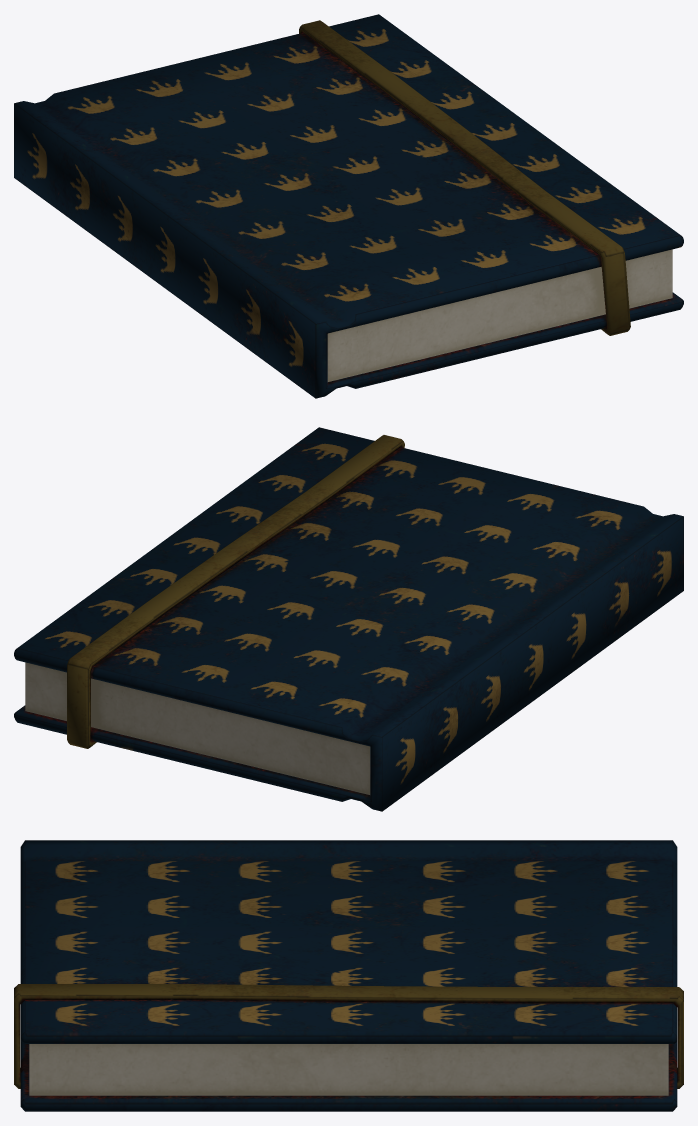
The model's file is book.obj.
The picture shows the model from 3 angles, top to bottom: view 1: azimuth 30°, elevation 25°; view 2: azimuth 150°, elevation 25°; view 3: azimuth 270°, elevation 25°; orthographic projection. The views are drawn at different scales.
Visible parts, largest first — view 1: Cube; view 2: Cube; view 3: Cube.
Boxes of the visible parts, x1,y1,x2,y2 form: Cube: (14, 14, 683, 398); Cube: (14, 427, 683, 811); Cube: (14, 840, 683, 1111).
Size of the model in its own units: 4.28 by 0.9578 by 6.29.
Materials: 1 (1 with a texture image).
